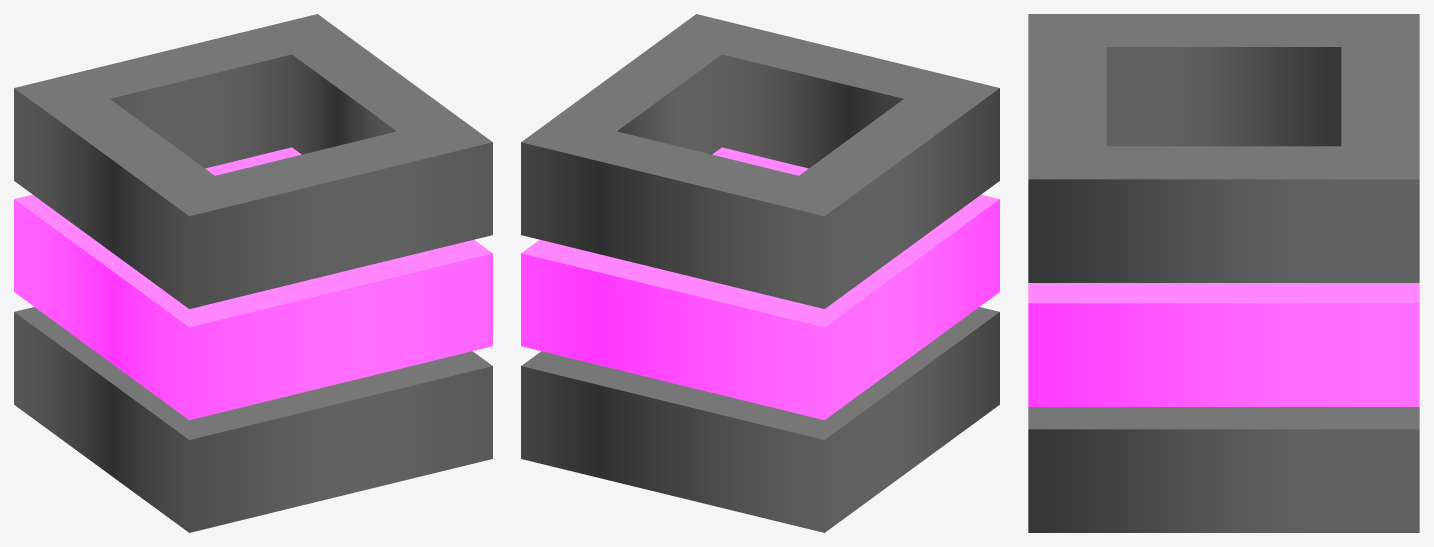
3 views of the same model, side by side, from view 1: azimuth 30°, elevation 25°; view 2: azimuth 150°, elevation 25°; view 3: azimuth 270°, elevation 25° (orthographic). The views are drawn at different scales.
Parts seen in each view (by area): view 1: Cube 5 segm 3, Cube 5 segm 2, Cube 5 segm 1; view 2: Cube 5 segm 3, Cube 5 segm 2, Cube 5 segm 1; view 3: Cube 5 segm 3, Cube 5 segm 1, Cube 5 segm 2.
Part boxes in pixels (x1=…): Cube 5 segm 3: x1=14, y1=14, x2=492, y2=308; Cube 5 segm 2: x1=14, y1=147, x2=492, y2=420; Cube 5 segm 1: x1=14, y1=307, x2=492, y2=532; Cube 5 segm 3: x1=521, y1=14, x2=999, y2=308; Cube 5 segm 2: x1=521, y1=147, x2=999, y2=420; Cube 5 segm 1: x1=521, y1=307, x2=999, y2=532; Cube 5 segm 3: x1=1028, y1=14, x2=1419, y2=282; Cube 5 segm 1: x1=1028, y1=407, x2=1419, y2=532; Cube 5 segm 2: x1=1028, y1=283, x2=1419, y2=406.
Bounding box in the file's own units: 100 × 99.71 × 100.
